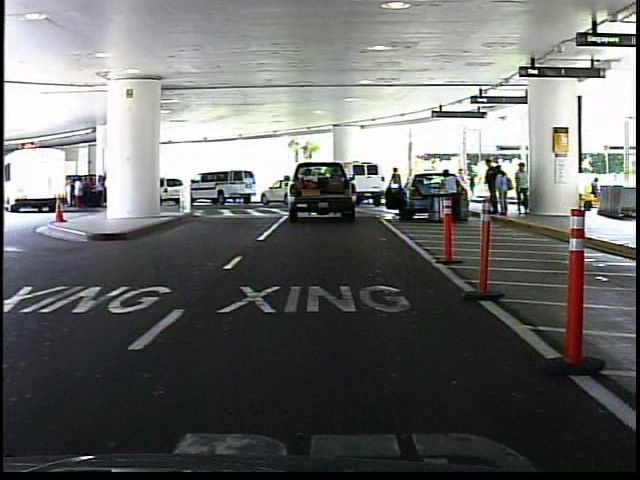person: (437, 163, 462, 223), (510, 159, 532, 216), (388, 165, 406, 210)
